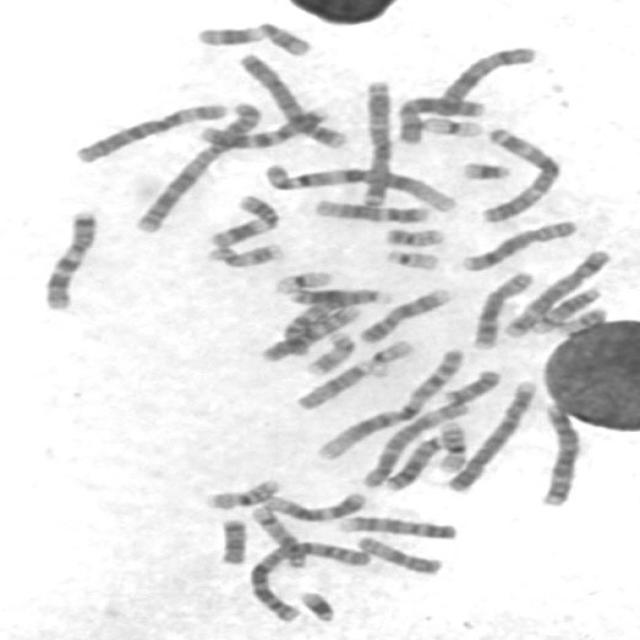A1: (308, 342, 469, 462), (255, 157, 462, 213)
A2: (128, 96, 264, 234), (241, 534, 373, 624)
A3: (472, 121, 566, 223), (354, 73, 396, 208)
B4: (231, 47, 350, 151), (439, 374, 540, 494)
B5: (496, 243, 614, 339), (531, 399, 584, 508)
C10: (254, 302, 364, 363), (280, 295, 343, 357)
C11: (200, 188, 282, 249), (190, 18, 316, 57)
C12: (256, 486, 370, 522), (307, 194, 432, 224)
C6: (66, 96, 230, 166), (354, 395, 472, 491)
C7: (34, 203, 102, 312), (191, 101, 332, 150)
C8: (454, 214, 581, 273), (465, 265, 538, 350)
C9: (352, 282, 454, 344), (332, 510, 460, 541)
D13: (377, 428, 448, 492), (281, 282, 393, 307)
D14: (243, 501, 311, 569), (526, 281, 605, 334)
D15: (288, 356, 376, 412), (348, 530, 446, 576)
E16: (197, 472, 284, 511), (430, 415, 471, 474)
E17: (198, 237, 288, 269), (300, 326, 357, 376)
E18: (436, 364, 504, 405), (209, 512, 251, 566)
F19: (266, 264, 336, 294), (415, 110, 486, 139)
F20: (550, 302, 610, 335), (377, 221, 449, 248)
G21: (290, 584, 339, 624), (454, 155, 515, 182)
G22: (361, 334, 417, 378), (377, 244, 443, 272)
X: (428, 40, 540, 118), (389, 90, 487, 146)
